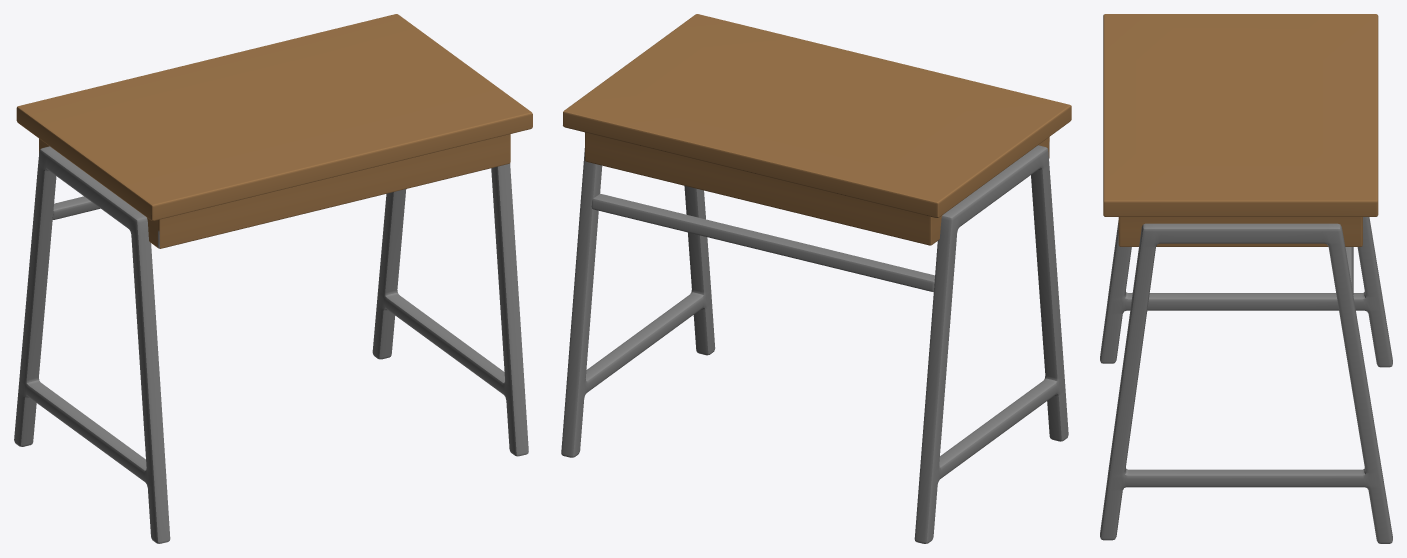
The model's file is deskPlain.glb.
3 views of the same model, side by side, from view 1: azimuth 30°, elevation 25°; view 2: azimuth 150°, elevation 25°; view 3: azimuth 270°, elevation 25° (orthographic). The views are drawn at different scales.
Parts seen in each view (by area): view 1: D_Leg_1.001; view 2: D_Leg_1.001; view 3: D_Leg_1.001.
Part boxes in pixels (box(x1,y1,x2,y2)): D_Leg_1.001: box(14, 14, 532, 543); D_Leg_1.001: box(561, 14, 1071, 543); D_Leg_1.001: box(1100, 14, 1392, 543).
Bounding box in the file's own units: 1.27 × 1.09 × 0.8339.
1 material, 1 textured.
